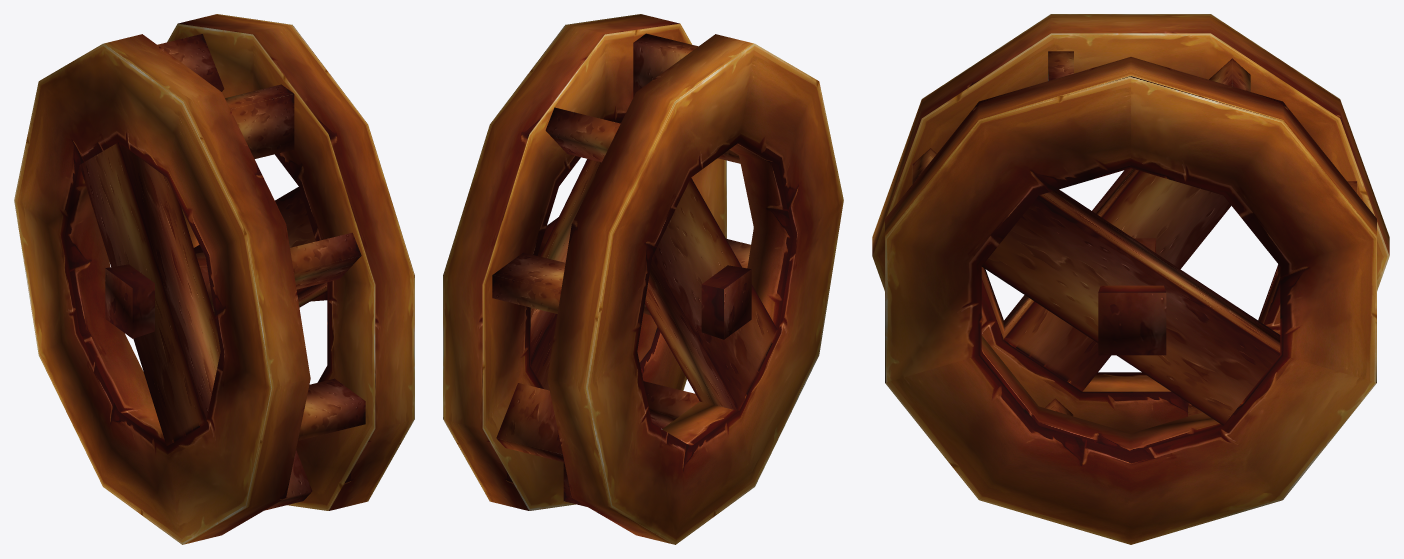
File: ironforgewheel.obj
3 views of the same model, side by side, from view 1: azimuth 30°, elevation 25°; view 2: azimuth 150°, elevation 25°; view 3: azimuth 270°, elevation 25° (orthographic).
Parts seen in each view (by area): view 1: ironforgewheel; view 2: ironforgewheel; view 3: ironforgewheel.
Boxes of the visible parts, <box> form: ironforgewheel: <box>14,14,414,544</box>; ironforgewheel: <box>443,14,843,544</box>; ironforgewheel: <box>872,14,1389,544</box>.
Size of the model in its own units: 7.5 by 17.38 by 17.38.
1 material, 1 textured.
